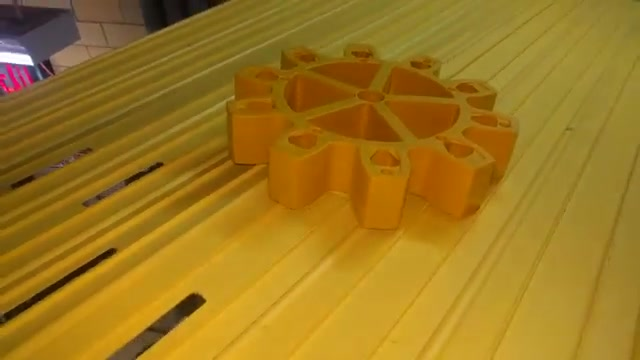gear: (222, 19, 532, 245)
